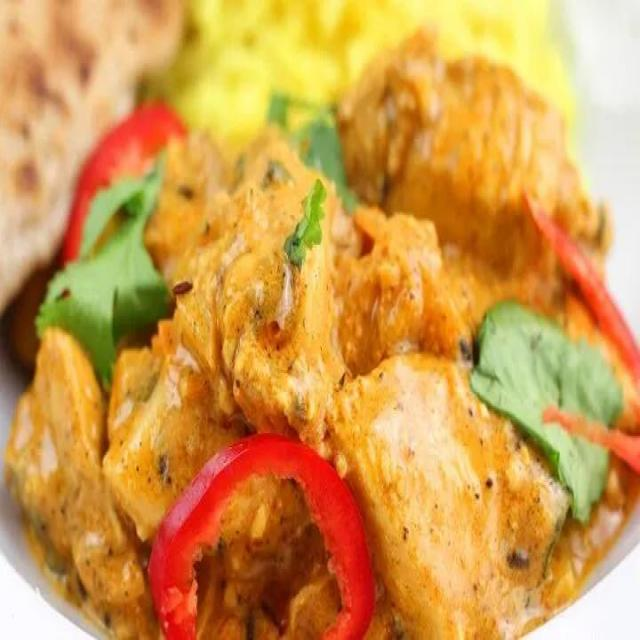chicken: (37, 27, 640, 640)
